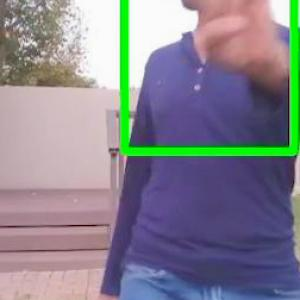takeoff-hand: (170, 0, 292, 78)
